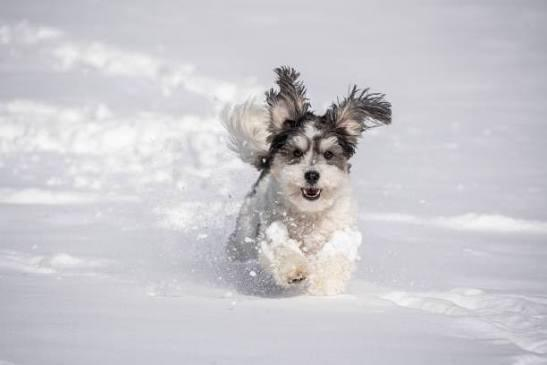puppy-dog: (226, 65, 392, 299)
